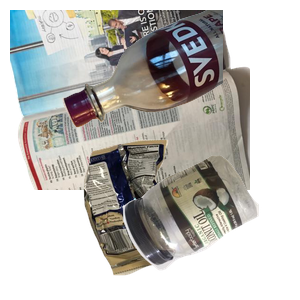glass: (60, 10, 300, 130)
paper: (10, 10, 250, 190)
plastic: (120, 152, 300, 300)
trash: (81, 137, 280, 300)
